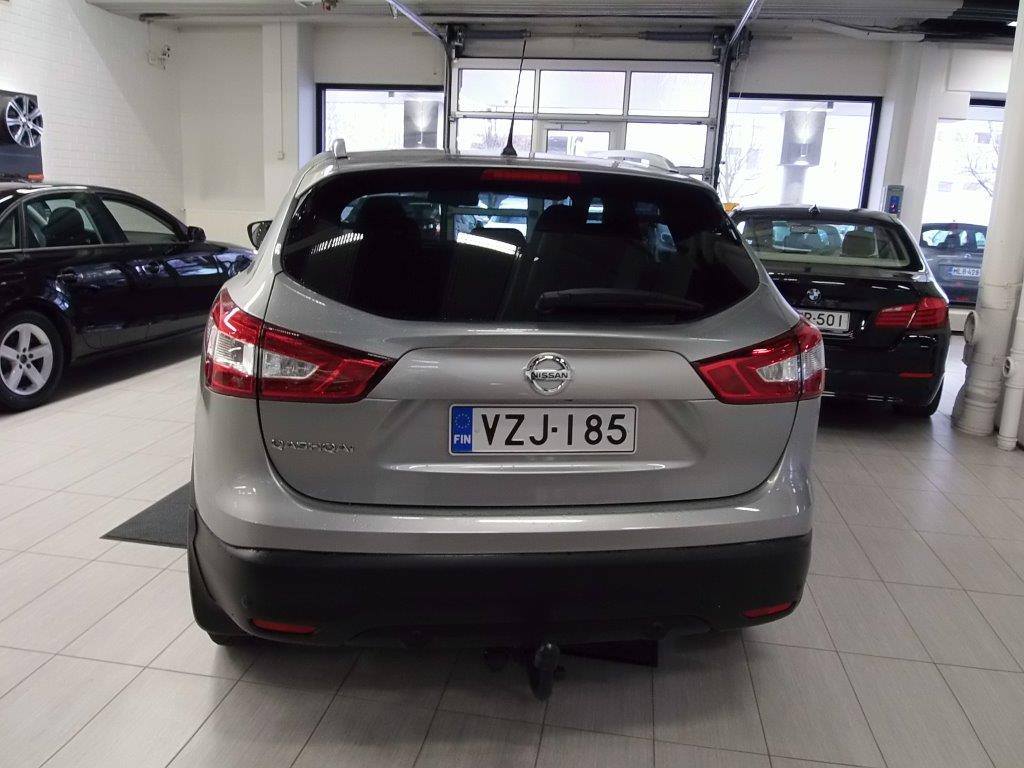license: (446, 402, 640, 456)
